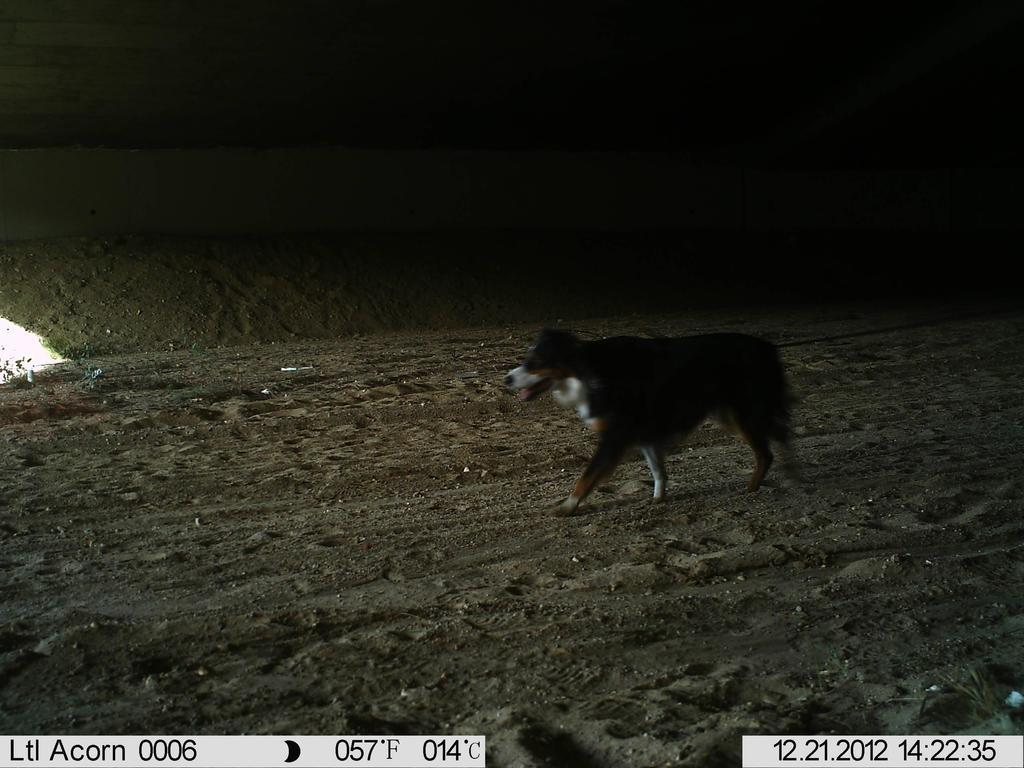dog: (498, 314, 827, 517)
